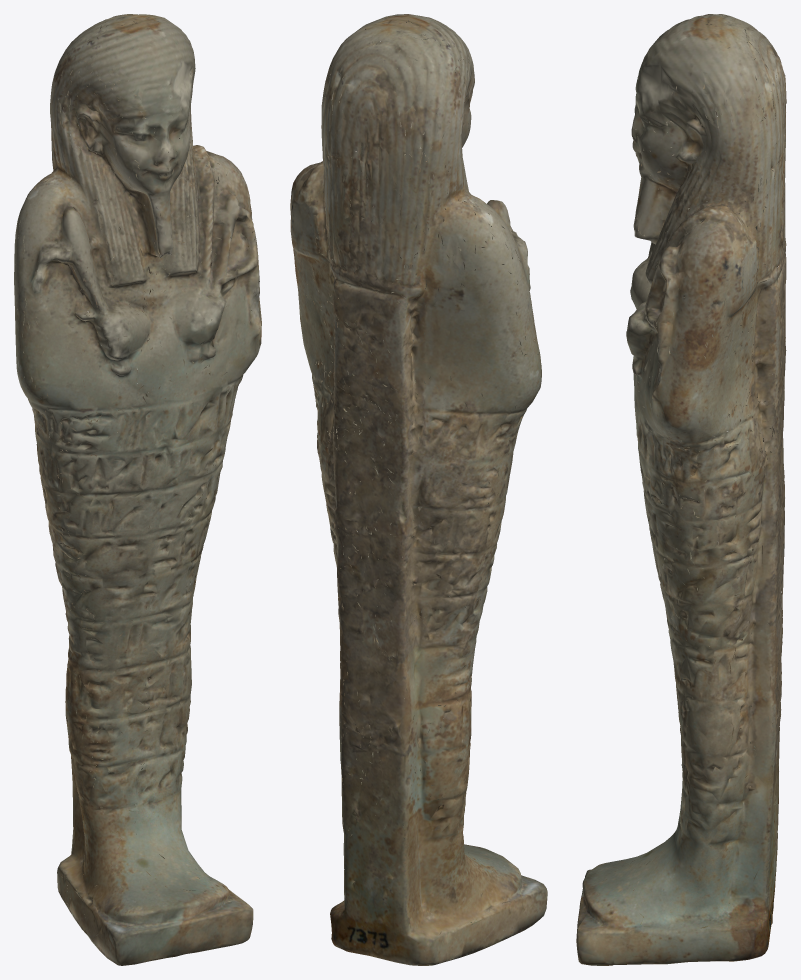
File: shawabti-horudja.glb
3 renders of one model, left to right at view 1: azimuth 30°, elevation 25°; view 2: azimuth 150°, elevation 25°; view 3: azimuth 270°, elevation 25°, orthographic. The views are drawn at different scales.
Parts seen in each view (by area): view 1: Object_4, Object_5, Object_3, Object_6, Object_2, Object_7; view 2: Object_6, Object_2, Object_7, Object_3, Object_4, Object_5; view 3: Object_5, Object_2, Object_3, Object_4, Object_6, Object_7.
Boxes of the visible parts, bbox=[...] form: Object_4: bbox=[22, 14, 259, 890]; Object_5: bbox=[23, 15, 227, 892]; Object_3: bbox=[23, 19, 261, 665]; Object_6: bbox=[14, 19, 258, 939]; Object_2: bbox=[14, 168, 253, 965]; Object_7: bbox=[14, 22, 231, 903]; Object_6: bbox=[290, 19, 540, 965]; Object_2: bbox=[295, 186, 547, 965]; Object_7: bbox=[300, 56, 541, 961]; Object_3: bbox=[290, 36, 534, 775]; Object_4: bbox=[321, 14, 541, 855]; Object_5: bbox=[312, 17, 540, 838]; Object_5: bbox=[596, 14, 776, 929]; Object_2: bbox=[576, 178, 786, 965]; Object_3: bbox=[626, 14, 786, 756]; Object_4: bbox=[601, 14, 772, 885]; Object_6: bbox=[604, 14, 785, 952]; Object_7: bbox=[679, 39, 786, 881].
Bounding box in the file's own units: 61.94 × 227 × 47.05.
1 material, 1 textured.
